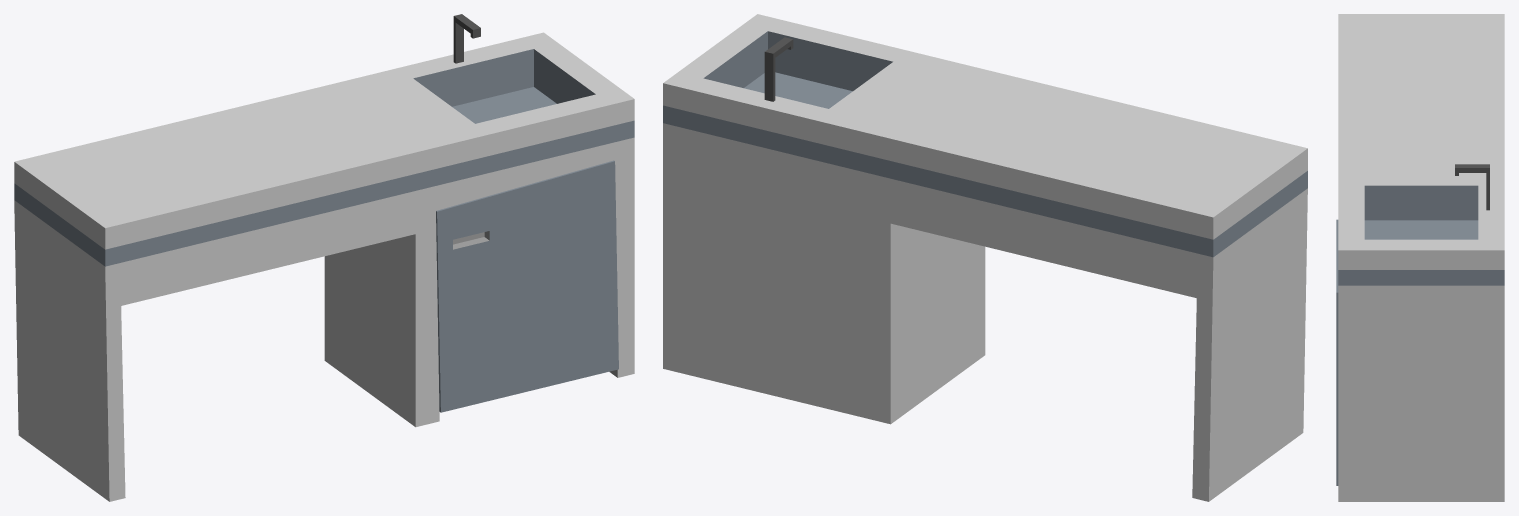
The model's file is ilot_student.fbx.
3 renders of one model, left to right at view 1: azimuth 30°, elevation 25°; view 2: azimuth 150°, elevation 25°; view 3: azimuth 270°, elevation 25°, orthographic. The views are drawn at different scales.
Parts seen in each view (by area): view 1: pCube79, pCube78; view 2: pCube79; view 3: pCube79, pCube78.
Part boxes in pixels (x1,y1,x2,y2): pCube79: (14, 14, 634, 501); pCube78: (436, 160, 618, 412); pCube79: (663, 14, 1307, 501); pCube79: (1338, 14, 1504, 501); pCube78: (1336, 219, 1338, 485).
Size of the model in its own units: 503 by 292 by 152.
